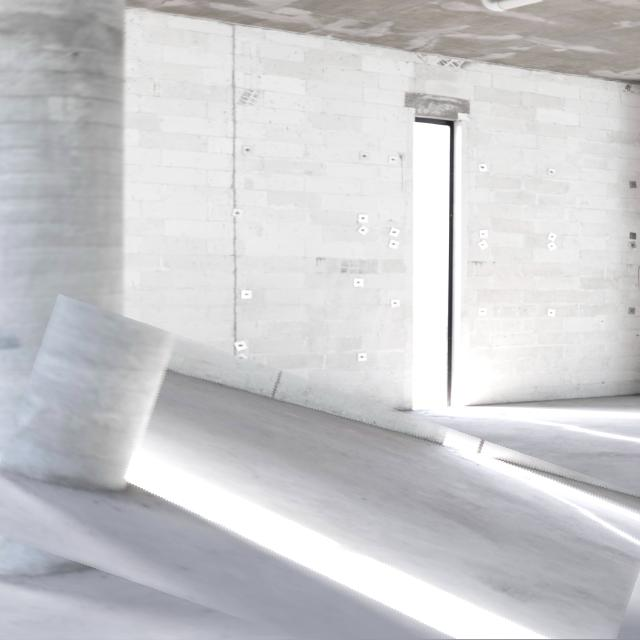floor: (0, 371, 640, 640)
